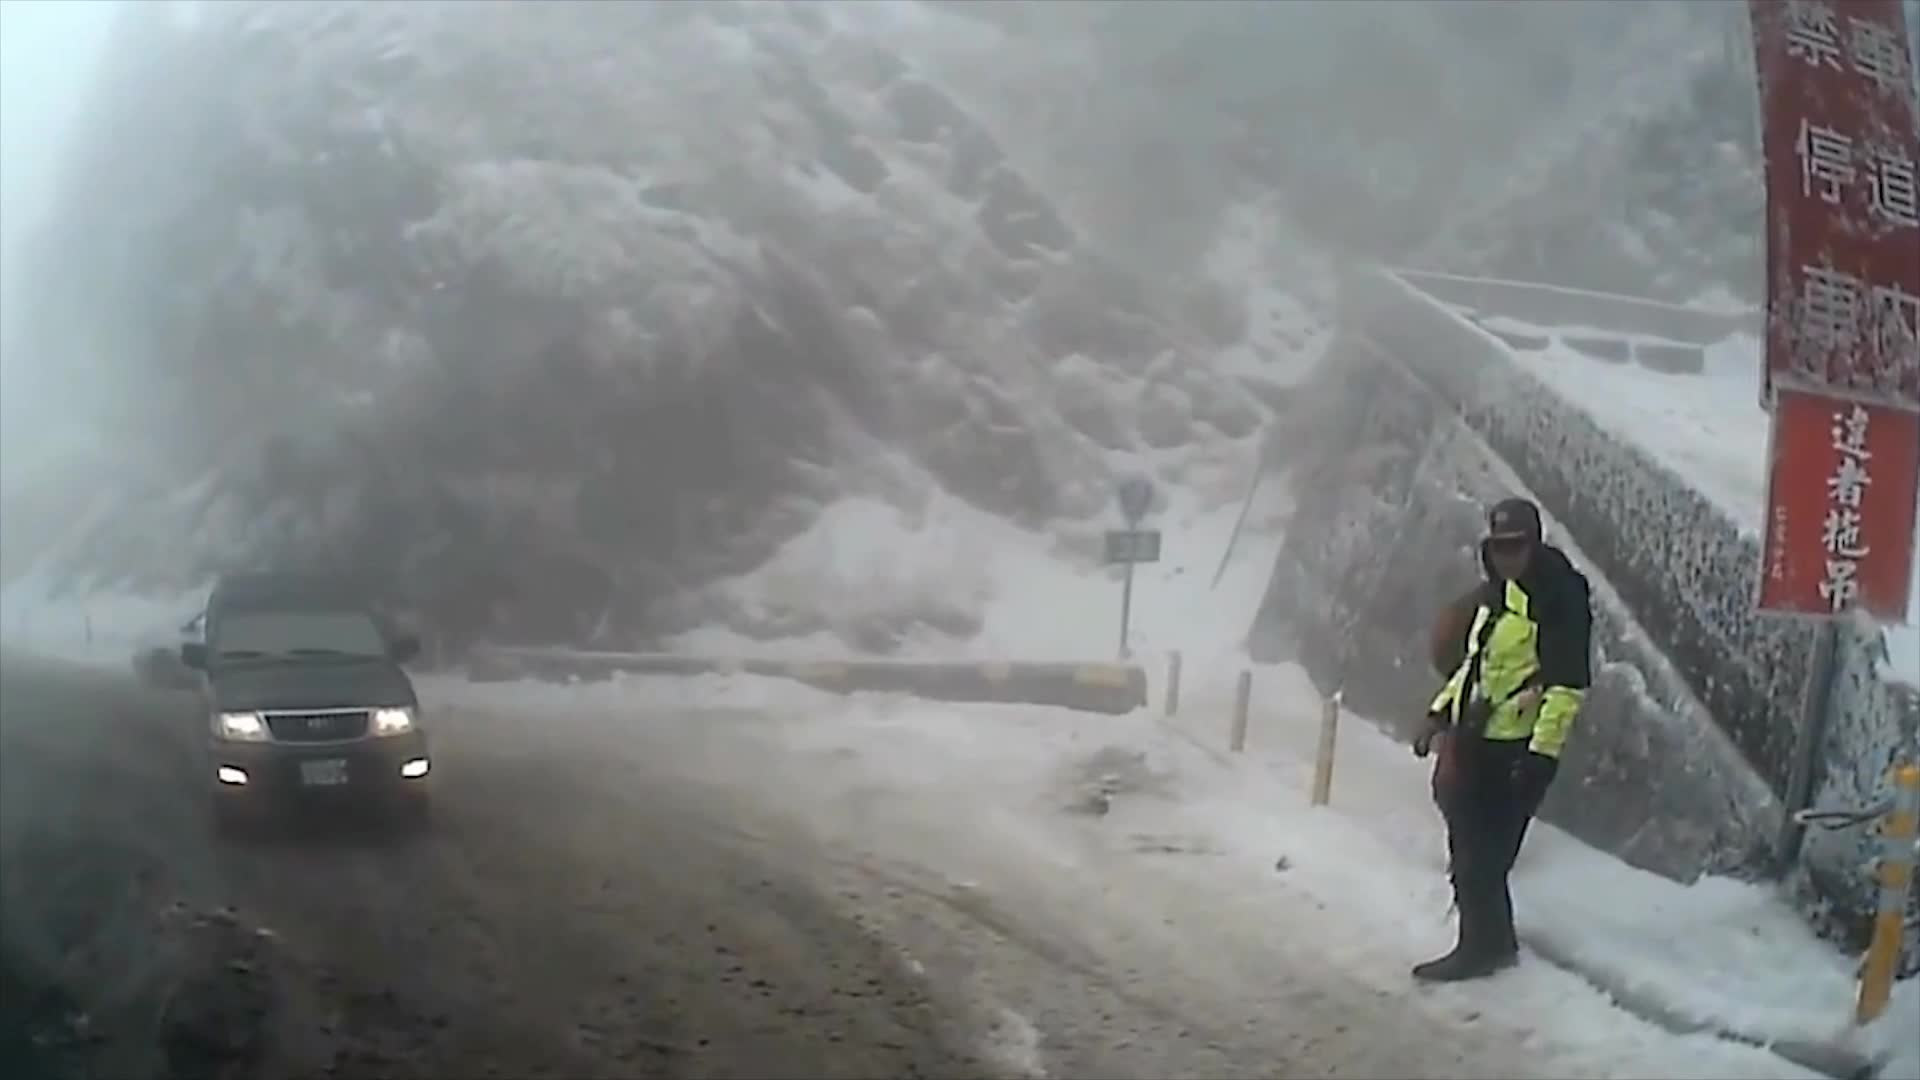pedestrian: (1408, 503, 1594, 991)
vehicle: (178, 571, 432, 834)
